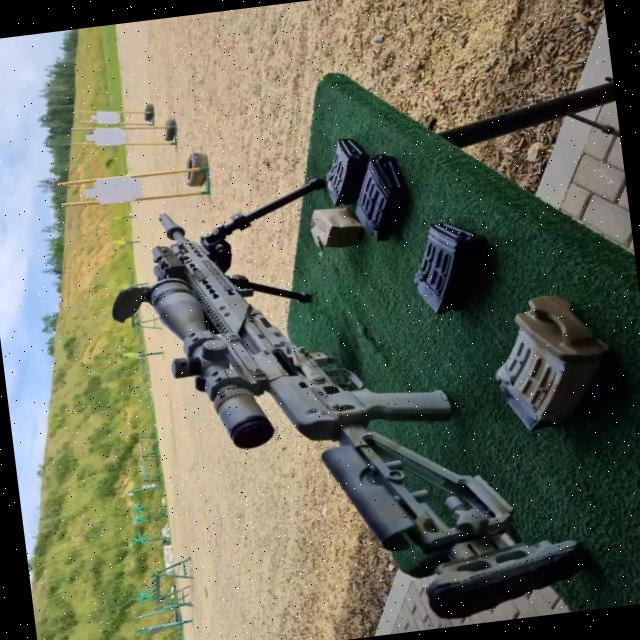Sniper: (122, 169, 556, 633)
